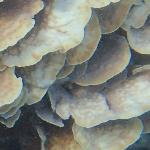dead: (2, 1, 145, 142)
